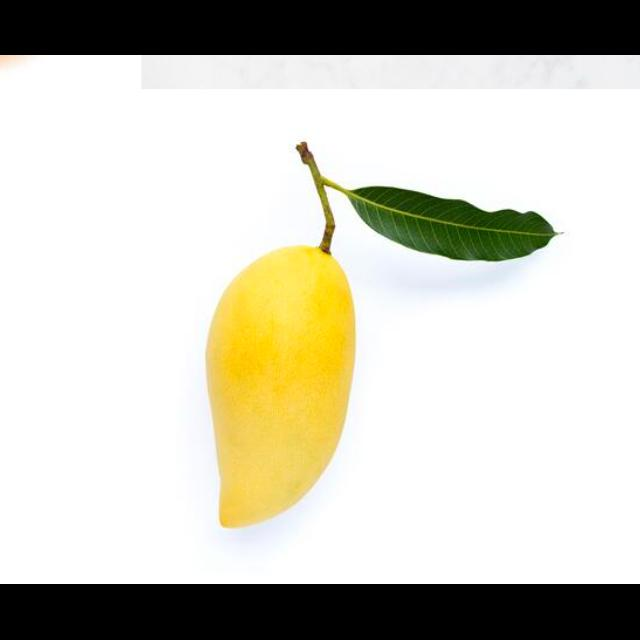mango: (203, 245, 355, 526)
